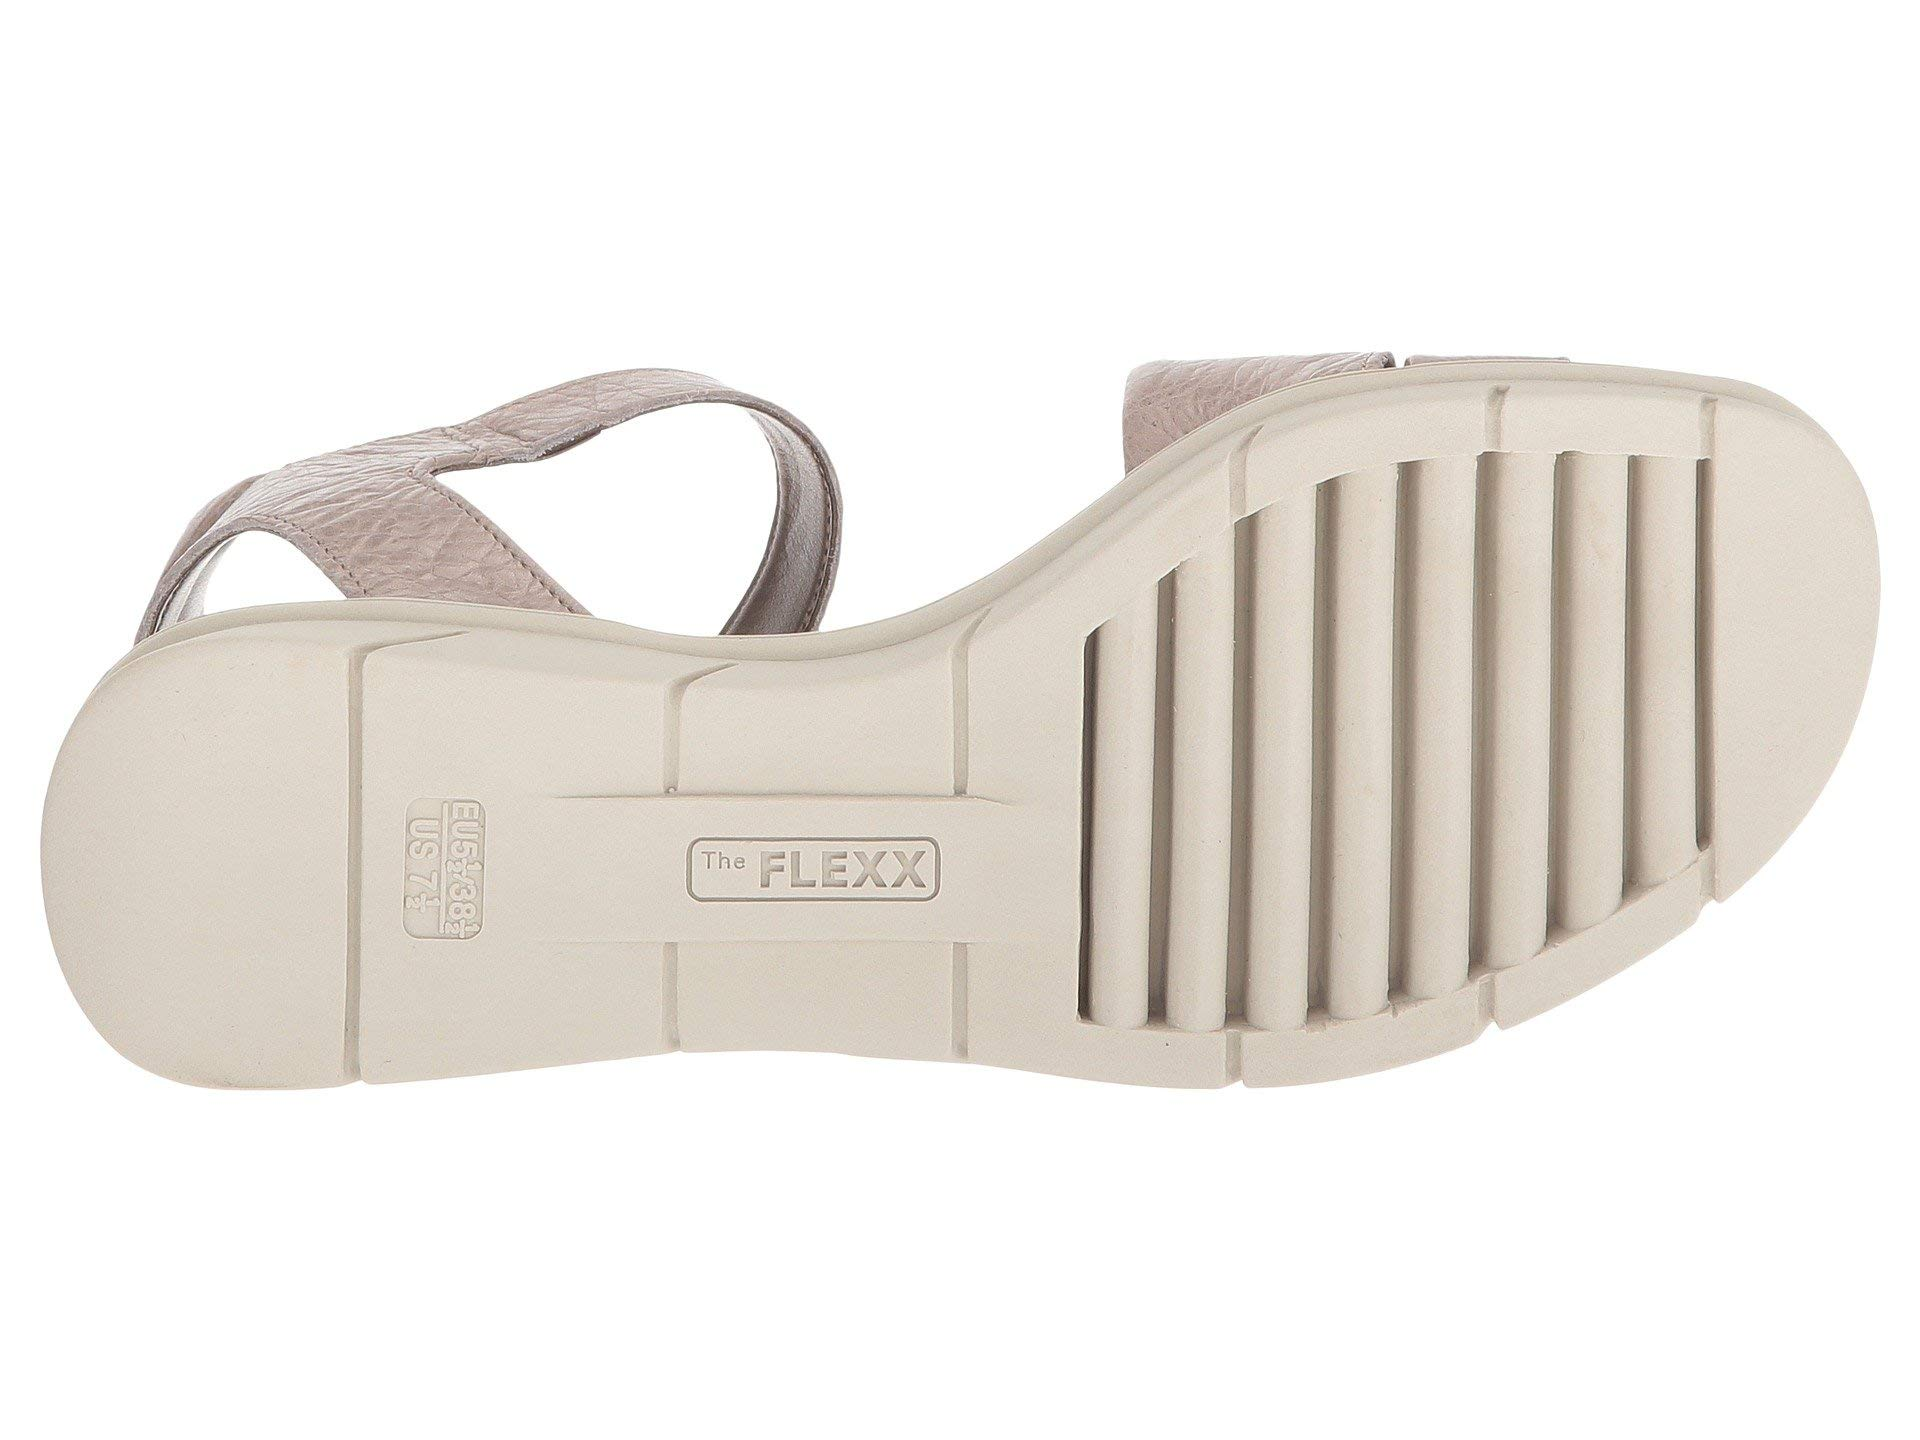exclude: (163, 286, 878, 610)
line: (903, 635, 1008, 787)
quad: (1182, 551, 1655, 894), (646, 821, 986, 924), (373, 773, 523, 980)
text: (646, 821, 986, 924), (373, 773, 523, 980)
